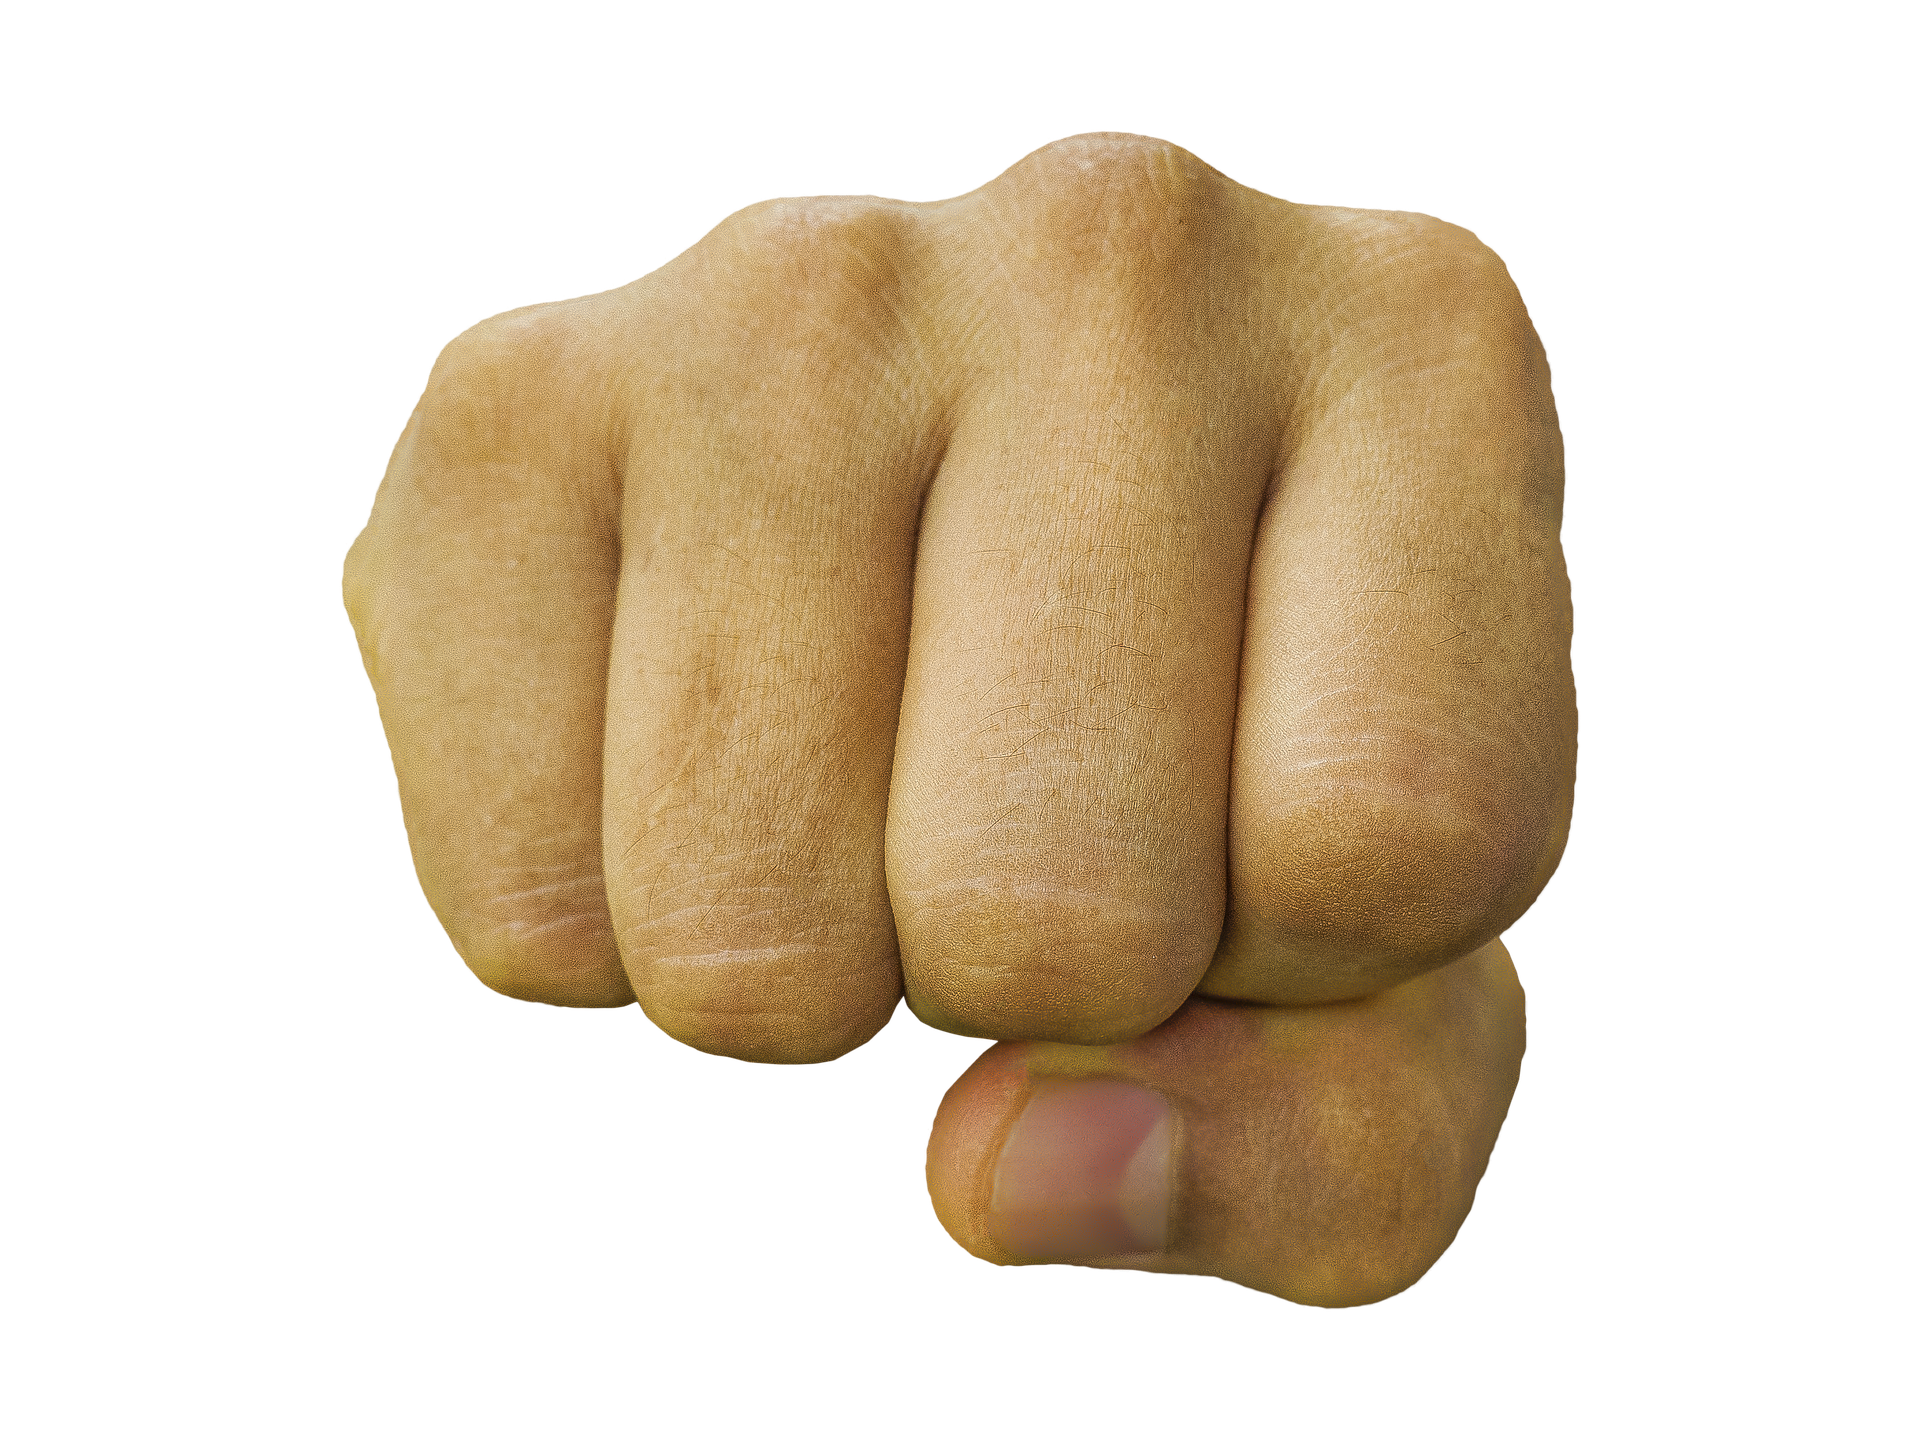fist: (382, 177, 1590, 1228)
